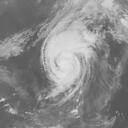cyclone: (41, 28, 102, 99)
